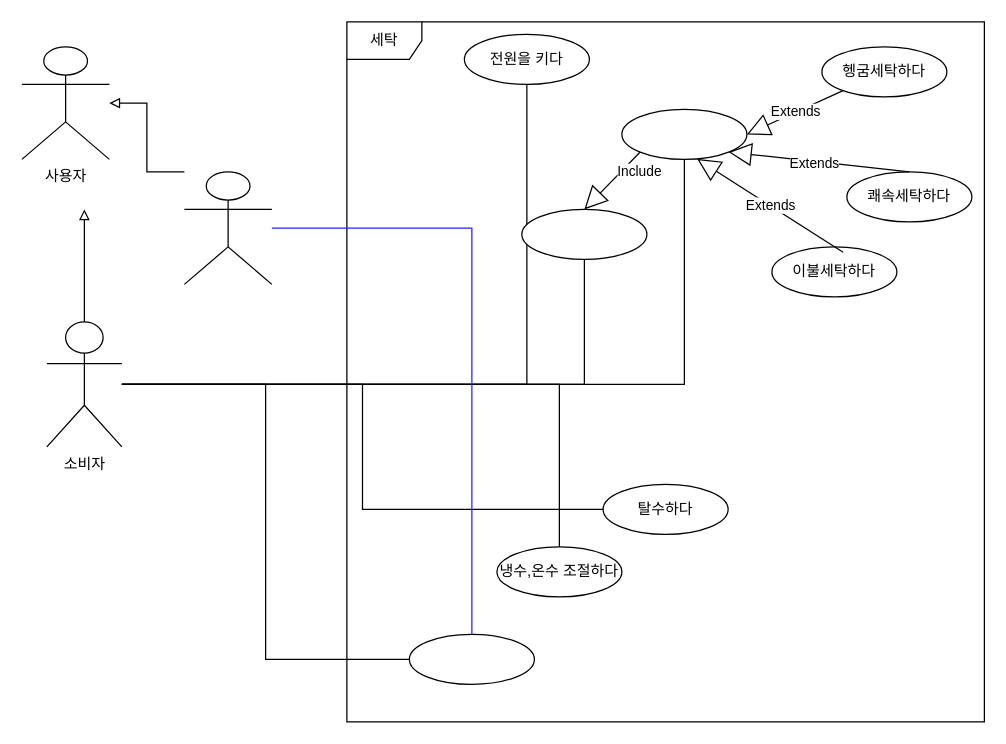
Some shapes in this 1006 by 744 pixel diagram are drawn without their labels. The shapes that lost their labels are listed below. From the top down, each one's centre as x and y in pixels, then its label:
the point at 684,133: 세탁하다
the point at 227,227: 점검원
the point at 584,233: 세제를 넣다
the point at 471,658: 전원을 끄다
